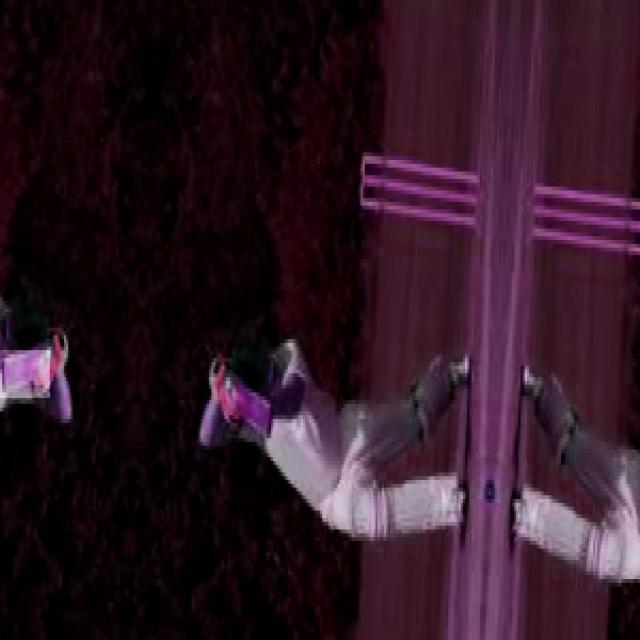bat: (185, 380, 294, 441)
